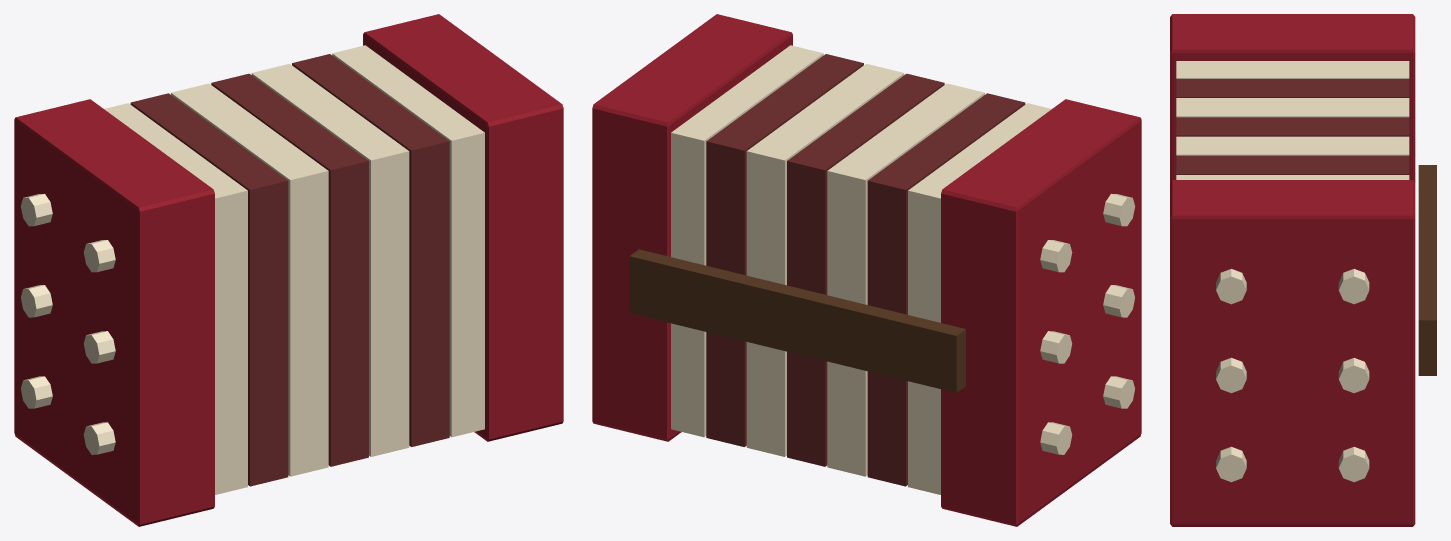
The model's file is Squeezebox.glb.
3 renders of one model, left to right at view 1: azimuth 30°, elevation 25°; view 2: azimuth 150°, elevation 25°; view 3: azimuth 270°, elevation 25°, orthographic. The views are drawn at different scales.
Parts seen in each view (by area): view 1: Squeezebox, Pleat.001, Pleat.002, Pleat.003, Pleat.004, Pleat.005, Pleat.006, Pleat; view 2: Squeezebox, Pleat.001, Pleat.002, Pleat.004, Pleat.003, Pleat.005, Pleat.006, Pleat; view 3: Squeezebox, Pleat.003, Pleat.002, Pleat.004, Pleat.005, Pleat.001, Pleat, Pleat.006.
Part boxes in pixels (left/top/right/bottom): Squeezebox: left=14, top=14, right=563, bottom=526; Pleat.001: left=130, top=93, right=288, bottom=486; Pleat.002: left=171, top=83, right=328, bottom=476; Pleat.003: left=211, top=73, right=368, bottom=466; Pleat.004: left=251, top=63, right=409, bottom=456; Pleat.005: left=292, top=54, right=449, bottom=446; Pleat.006: left=332, top=45, right=484, bottom=437; Pleat: left=104, top=103, right=247, bottom=494; Squeezebox: left=592, top=14, right=1141, bottom=526; Pleat.001: left=867, top=93, right=1025, bottom=486; Pleat.002: left=827, top=83, right=984, bottom=476; Pleat.004: left=746, top=63, right=904, bottom=456; Pleat.003: left=787, top=73, right=944, bottom=466; Pleat.005: left=706, top=54, right=863, bottom=446; Pleat.006: left=671, top=45, right=823, bottom=437; Pleat: left=908, top=103, right=1051, bottom=494; Squeezebox: left=1170, top=14, right=1436, bottom=526; Pleat.003: left=1176, top=117, right=1409, bottom=136; Pleat.002: left=1176, top=98, right=1409, bottom=117; Pleat.004: left=1176, top=136, right=1409, bottom=155; Pleat.005: left=1176, top=155, right=1409, bottom=174; Pleat.001: left=1176, top=79, right=1409, bottom=97; Pleat: left=1176, top=61, right=1409, bottom=78; Pleat.006: left=1176, top=175, right=1409, bottom=179.
Bounding box in the file's own units: 0.42 × 0.28 × 0.2175.
